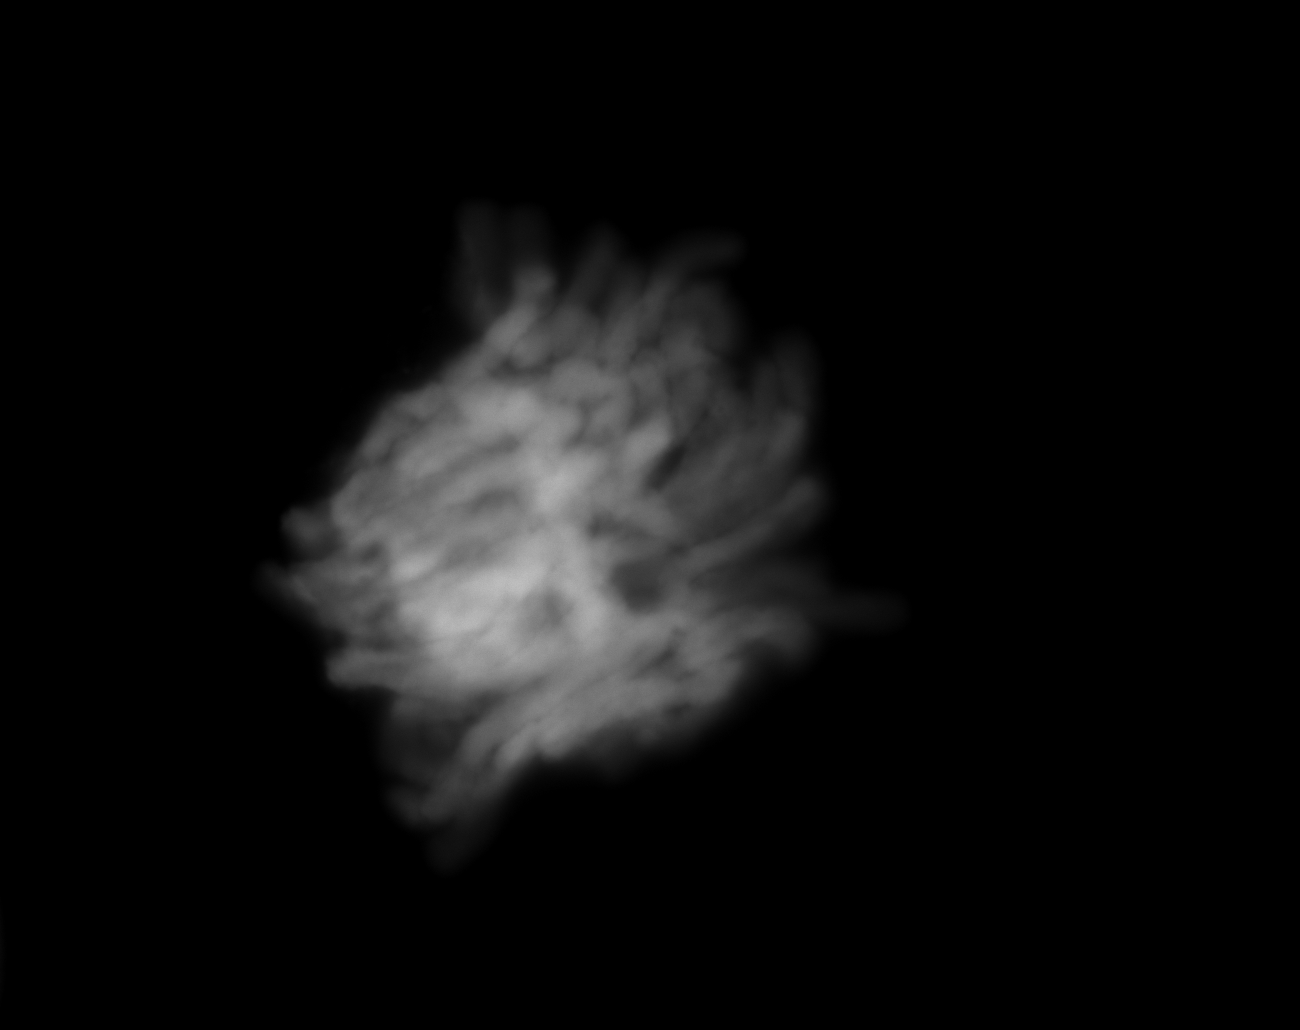Chromosomes: (217, 131, 913, 909)
